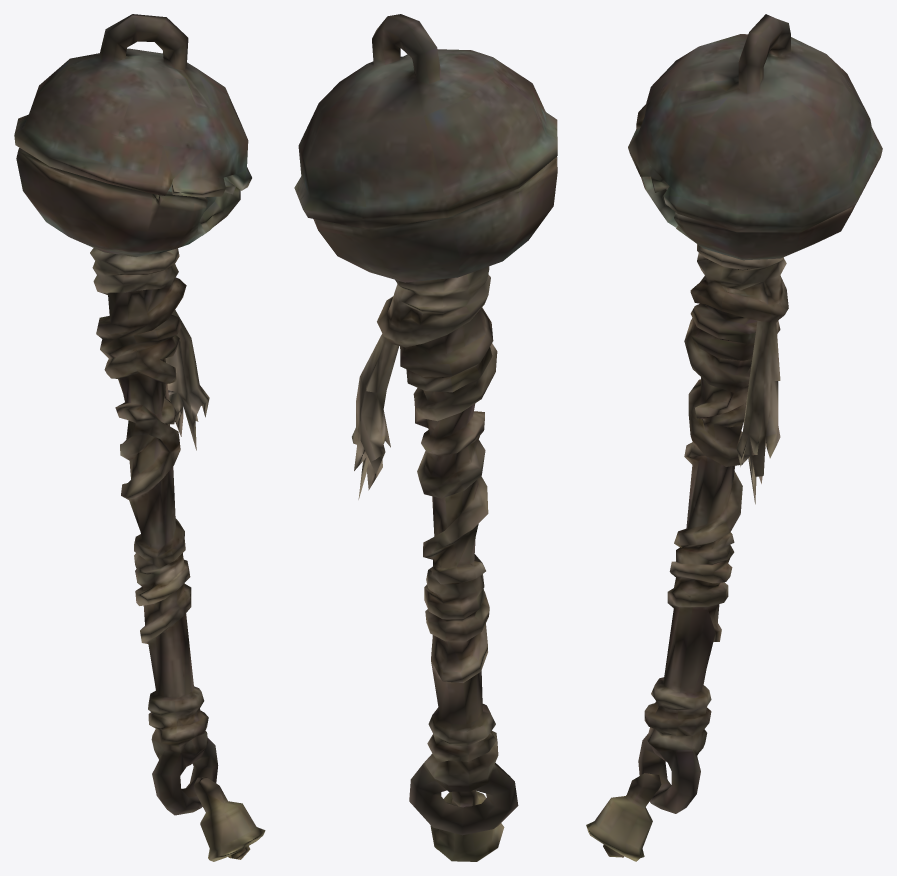
The model's file is tll_ch7_bellringer_club.glb.
The picture shows the model from 3 angles, left to right: view 1: azimuth 30°, elevation 25°; view 2: azimuth 150°, elevation 25°; view 3: azimuth 270°, elevation 25°; orthographic projection. The views are drawn at different scales.
Visible parts, largest first — view 1: weapon; view 2: weapon; view 3: weapon.
Boxes of the visible parts, left/top/right/bottom form: weapon: left=14, top=14, right=265, bottom=861; weapon: left=294, top=14, right=557, bottom=861; weapon: left=586, top=14, right=882, bottom=861.
Size of the model in its own units: 0.4051 by 1.54 by 0.5002.
1 material, 1 textured.
